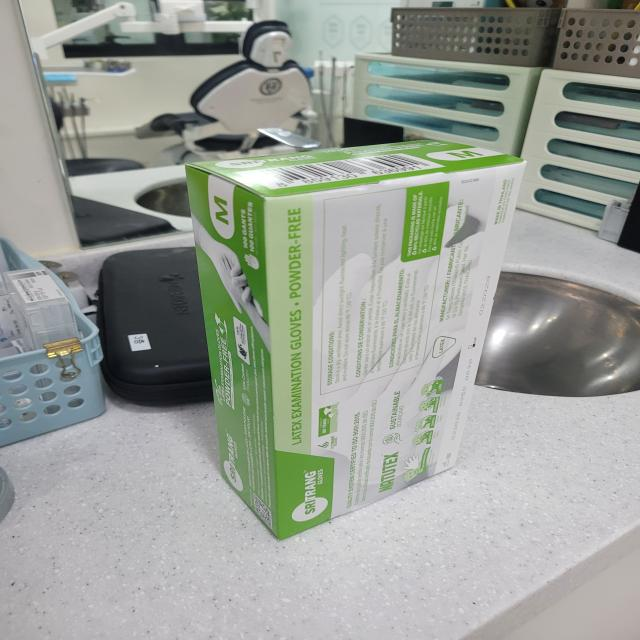glove: (157, 123, 530, 549)
